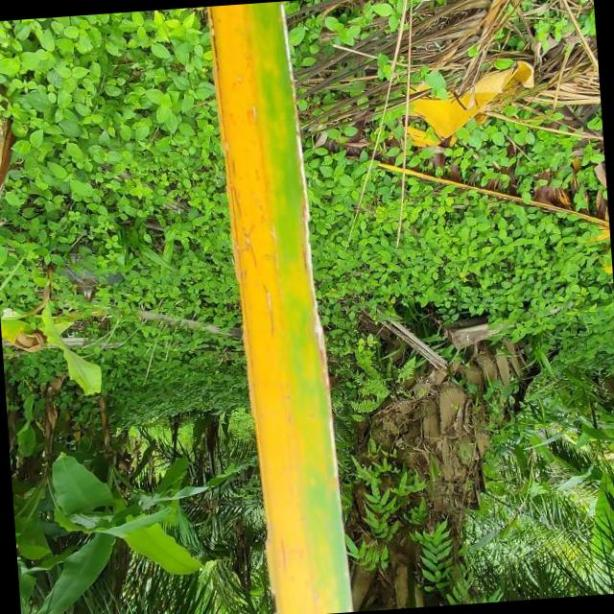Megnesium: (197, 0, 353, 614)
